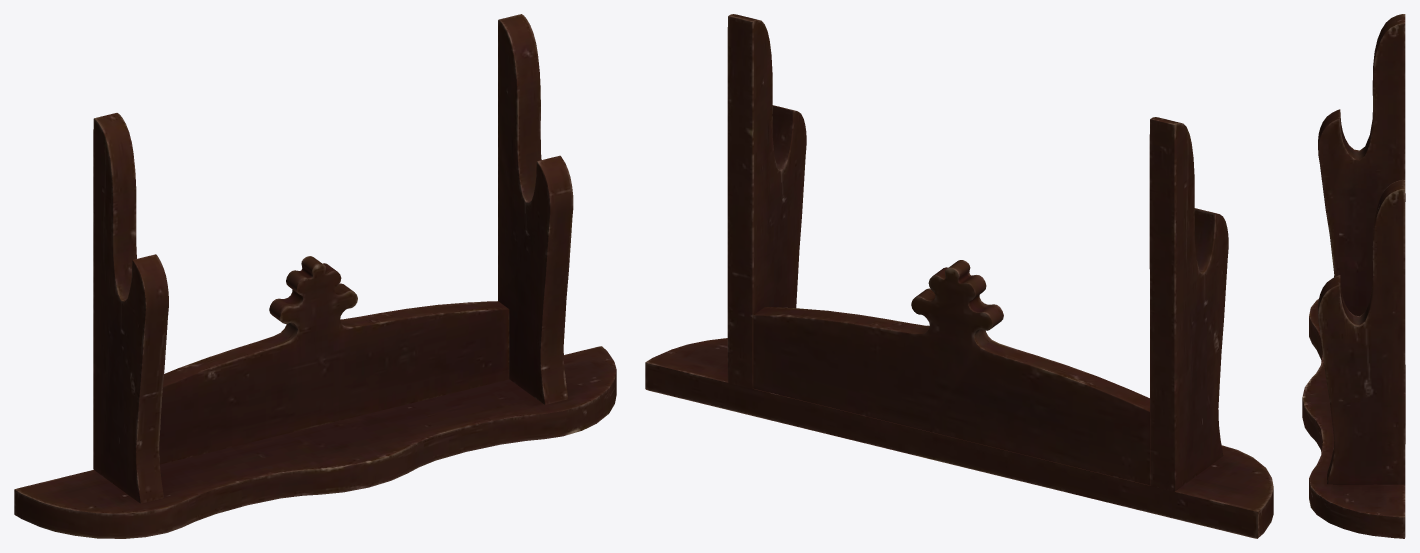
Rendered from katana_stand_01.glb.
3 views of the same model, side by side, from view 1: azimuth 30°, elevation 25°; view 2: azimuth 150°, elevation 25°; view 3: azimuth 270°, elevation 25° (orthographic). The views are drawn at different scales.
Visible parts, largest first — view 1: katana_stand_01; view 2: katana_stand_01; view 3: katana_stand_01.
Boxes of the visible parts, box(x1,y1,x2,y2) form: katana_stand_01: box(14, 14, 616, 538); katana_stand_01: box(645, 14, 1273, 538); katana_stand_01: box(1302, 14, 1405, 538).
Size of the model in its own units: 0.2958 by 0.182 by 0.0535.
1 material, 1 textured.
